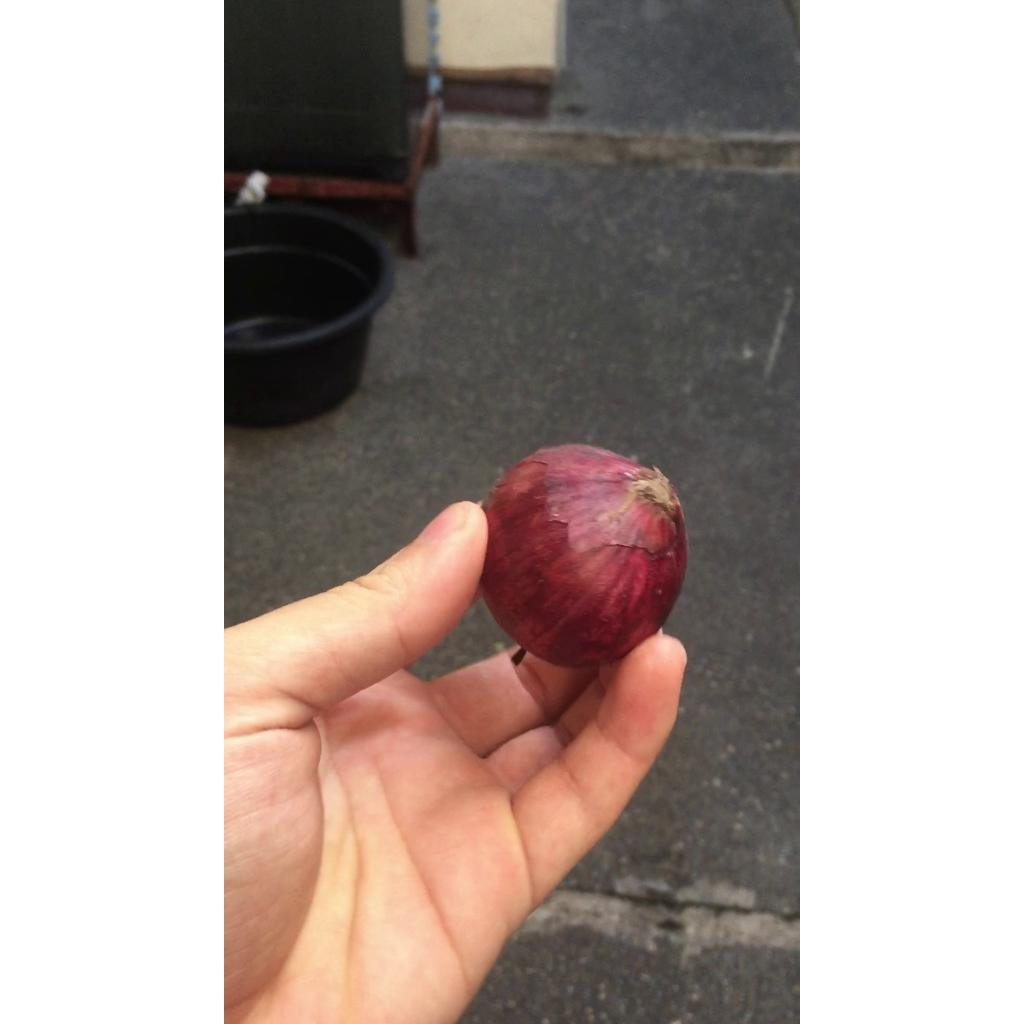Onion: (480, 444, 687, 667)
